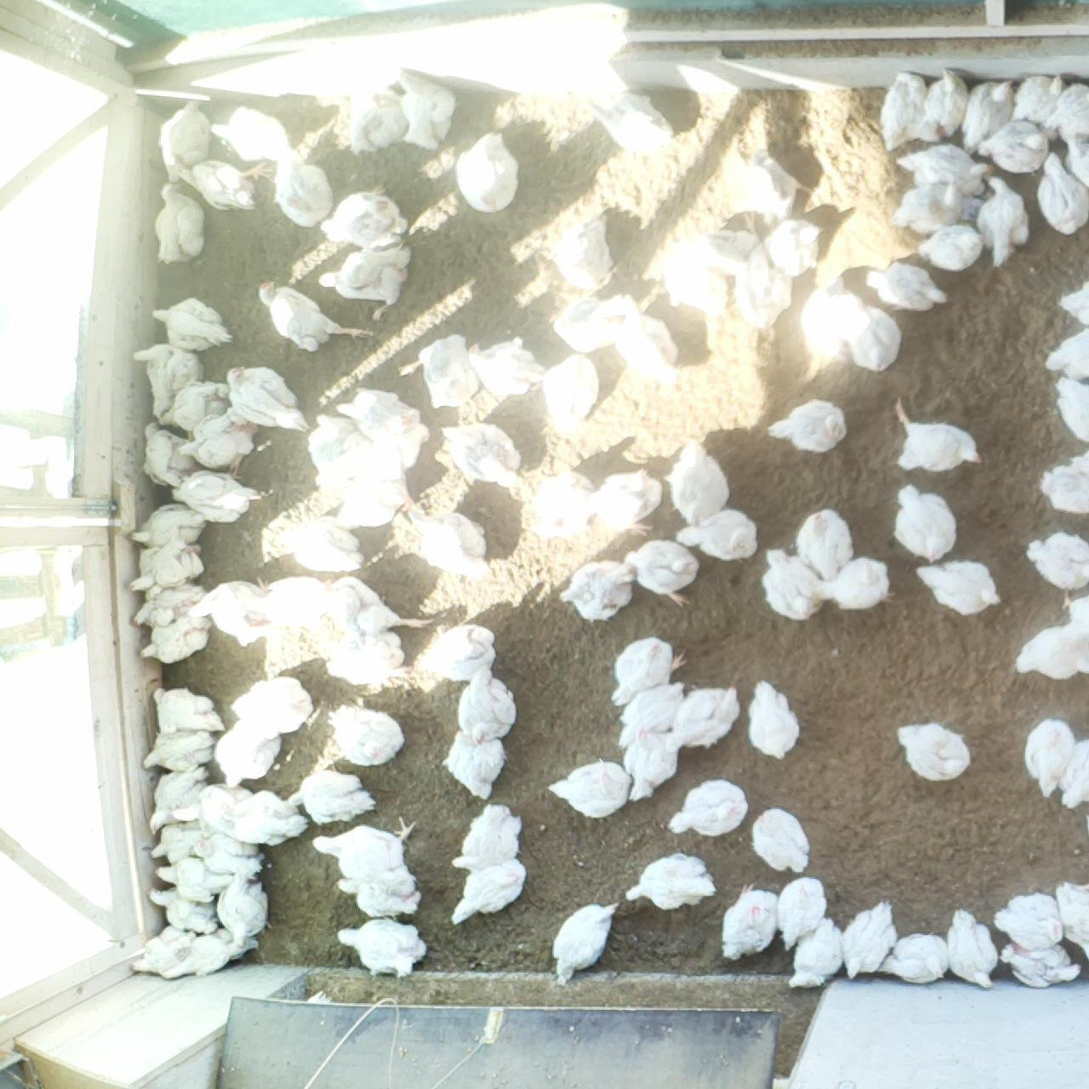chicken: (719, 133, 814, 221), (310, 815, 422, 887), (258, 278, 374, 346), (317, 244, 418, 321), (333, 385, 429, 466), (615, 295, 689, 393), (893, 395, 983, 474), (396, 329, 484, 409), (173, 406, 264, 483), (549, 899, 624, 991), (585, 91, 683, 160), (325, 622, 417, 694), (797, 270, 869, 361), (332, 916, 432, 981), (324, 576, 432, 636), (186, 575, 275, 647), (546, 290, 643, 356), (664, 433, 731, 528), (407, 509, 495, 581), (317, 184, 408, 253), (226, 364, 310, 438), (581, 464, 666, 537), (435, 421, 526, 489), (285, 763, 380, 827), (726, 242, 794, 330), (207, 104, 299, 169), (231, 673, 316, 742), (609, 636, 690, 708), (157, 929, 261, 985), (621, 537, 703, 608), (541, 353, 606, 442), (211, 789, 309, 848), (916, 555, 1005, 619), (455, 130, 522, 215), (131, 339, 205, 415), (543, 214, 616, 291), (658, 236, 730, 314), (274, 512, 366, 573), (174, 157, 276, 212), (325, 701, 406, 770), (623, 851, 716, 911), (169, 468, 265, 526), (614, 680, 690, 753), (760, 546, 831, 624), (448, 860, 530, 927), (668, 778, 751, 844), (342, 82, 411, 161), (975, 173, 1032, 268), (893, 481, 959, 563), (440, 729, 513, 803), (155, 97, 215, 187), (313, 436, 411, 491), (893, 141, 993, 194), (454, 665, 520, 745), (559, 559, 639, 625), (150, 178, 210, 266), (530, 460, 596, 540), (667, 682, 741, 753), (395, 66, 456, 152), (1023, 531, 1089, 610), (719, 882, 785, 961), (415, 624, 499, 686), (463, 335, 547, 397), (954, 76, 1019, 156), (271, 151, 336, 231), (546, 761, 634, 820), (452, 803, 526, 873), (330, 479, 419, 537), (149, 295, 235, 354), (863, 260, 952, 317), (212, 718, 282, 790), (812, 556, 894, 617), (672, 508, 762, 563), (782, 916, 847, 992), (945, 906, 1002, 992), (154, 376, 239, 433), (139, 419, 205, 492), (894, 720, 971, 782), (147, 767, 217, 835), (1022, 717, 1078, 801), (1035, 151, 1089, 238), (621, 724, 679, 805), (887, 181, 969, 238), (745, 678, 802, 760), (841, 298, 902, 374), (121, 543, 210, 595), (766, 398, 849, 453), (214, 872, 271, 952), (750, 218, 827, 277), (794, 505, 856, 578), (845, 898, 898, 983), (748, 805, 813, 874), (170, 782, 260, 831), (1013, 623, 1089, 681), (306, 409, 378, 470), (994, 890, 1067, 950), (135, 608, 210, 666), (877, 930, 953, 987), (330, 873, 424, 919), (998, 938, 1083, 988), (127, 502, 211, 552), (191, 830, 268, 884), (976, 121, 1054, 174), (257, 574, 333, 628), (1036, 445, 1089, 522), (145, 879, 225, 930), (126, 582, 211, 629), (153, 852, 237, 899), (920, 66, 969, 146), (918, 219, 990, 273), (129, 927, 204, 978), (139, 723, 218, 771), (148, 819, 222, 869), (780, 873, 827, 951), (878, 71, 923, 151), (690, 224, 760, 274), (150, 682, 217, 733), (1052, 875, 1089, 966), (1008, 73, 1067, 130), (1055, 591, 1089, 679), (1047, 375, 1089, 445), (1043, 80, 1089, 142), (1043, 324, 1089, 385), (1055, 735, 1089, 809), (1052, 132, 1089, 190), (1054, 279, 1089, 328)
